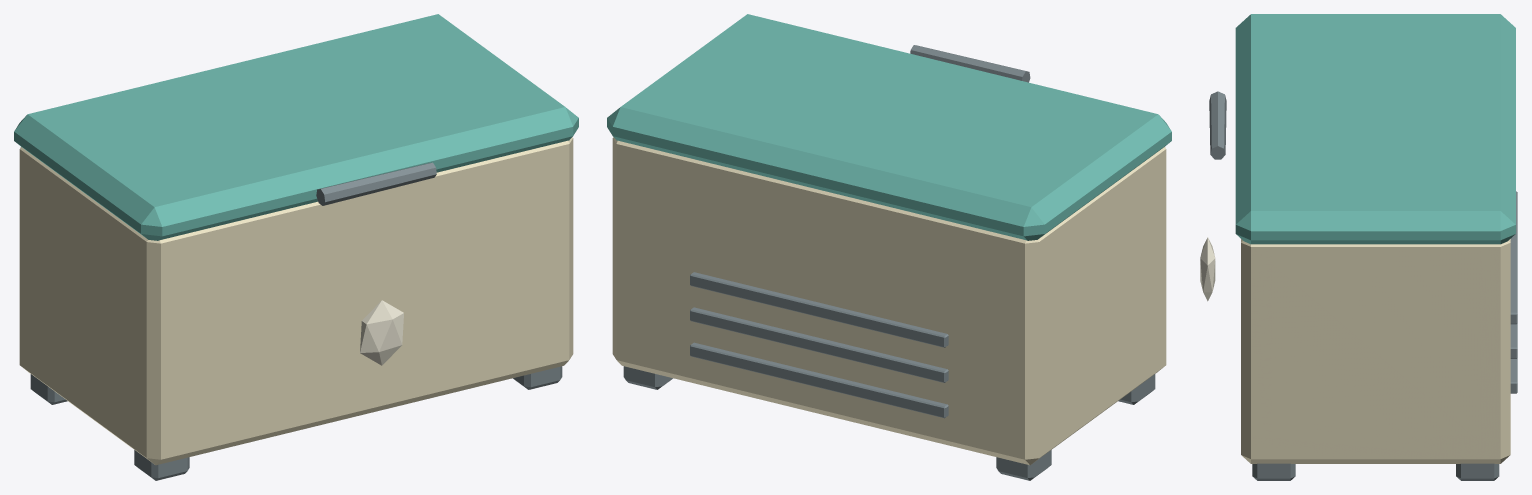
File: CC_Freezer.fbx
3 views of the same model, side by side, from view 1: azimuth 30°, elevation 25°; view 2: azimuth 150°, elevation 25°; view 3: azimuth 270°, elevation 25° (orthographic).
Parts seen in each view (by area): view 1: Cabinet front, Lid, Cabinet side.002, Cabinet bottom.001, Cold badge.001, Handle.002, Foot.006, Foot.008; view 2: Cabinet back.001, Lid, Cabinet side.002, Vent.004, Vent.003, Vent.005, Cabinet bottom.001, Handle.002, Cabinet front, Foot.007, Foot.009; view 3: Lid, Cabinet side.003, Cabinet bottom.001, Cabinet back.001, Cabinet front, Handle.002, Vent.005, Cold badge.001, Foot.008, Foot.009.
Part boxes in pixels (left/top/right/bottom): Cabinet front: left=136, top=137, right=573, bottom=465; Lid: left=14, top=14, right=578, bottom=240; Cabinet side.002: left=20, top=147, right=151, bottom=462; Cabinet bottom.001: left=20, top=342, right=145, bottom=456; Cold badge.001: left=360, top=300, right=403, bottom=365; Handle.002: left=316, top=162, right=436, bottom=205; Foot.006: left=134, top=450, right=189, bottom=480; Foot.008: left=513, top=366, right=562, bottom=389; Cabinet back.001: left=612, top=137, right=1049, bottom=465; Lid: left=607, top=14, right=1171, bottom=240; Cabinet side.002: left=1035, top=154, right=1165, bottom=461; Vent.004: left=690, top=307, right=948, bottom=382; Vent.003: left=690, top=342, right=948, bottom=418; Vent.005: left=690, top=272, right=948, bottom=347; Cabinet bottom.001: left=1038, top=342, right=1165, bottom=459; Handle.002: left=910, top=45, right=1030, bottom=82; Cabinet front: left=1154, top=147, right=1166, bottom=365; Foot.007: left=996, top=450, right=1051, bottom=480; Foot.009: left=623, top=366, right=672, bottom=389; Lid: left=1235, top=14, right=1515, bottom=244; Cabinet side.003: left=1252, top=244, right=1499, bottom=463; Cabinet bottom.001: left=1252, top=436, right=1499, bottom=463; Cabinet back.001: left=1480, top=239, right=1510, bottom=463; Cabinet front: left=1241, top=239, right=1271, bottom=463; Handle.002: left=1209, top=91, right=1226, bottom=159; Vent.005: left=1510, top=191, right=1517, bottom=324; Cold badge.001: left=1200, top=237, right=1215, bottom=301; Foot.008: left=1252, top=463, right=1295, bottom=480; Foot.009: left=1456, top=463, right=1499, bottom=480.
Size of the model in its own units: 1.95 by 1.18 by 1.25.
